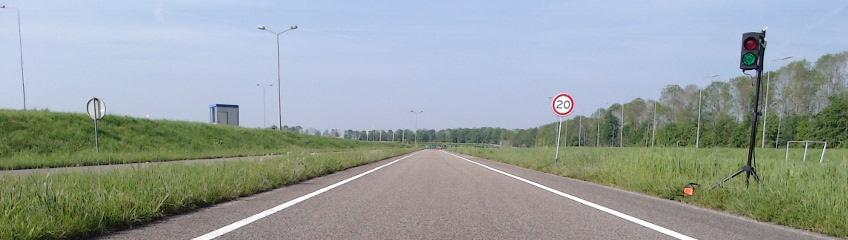Speed-limit-20km-h-: (553, 94, 574, 115)
TrafficLight-green: (740, 32, 761, 70)
